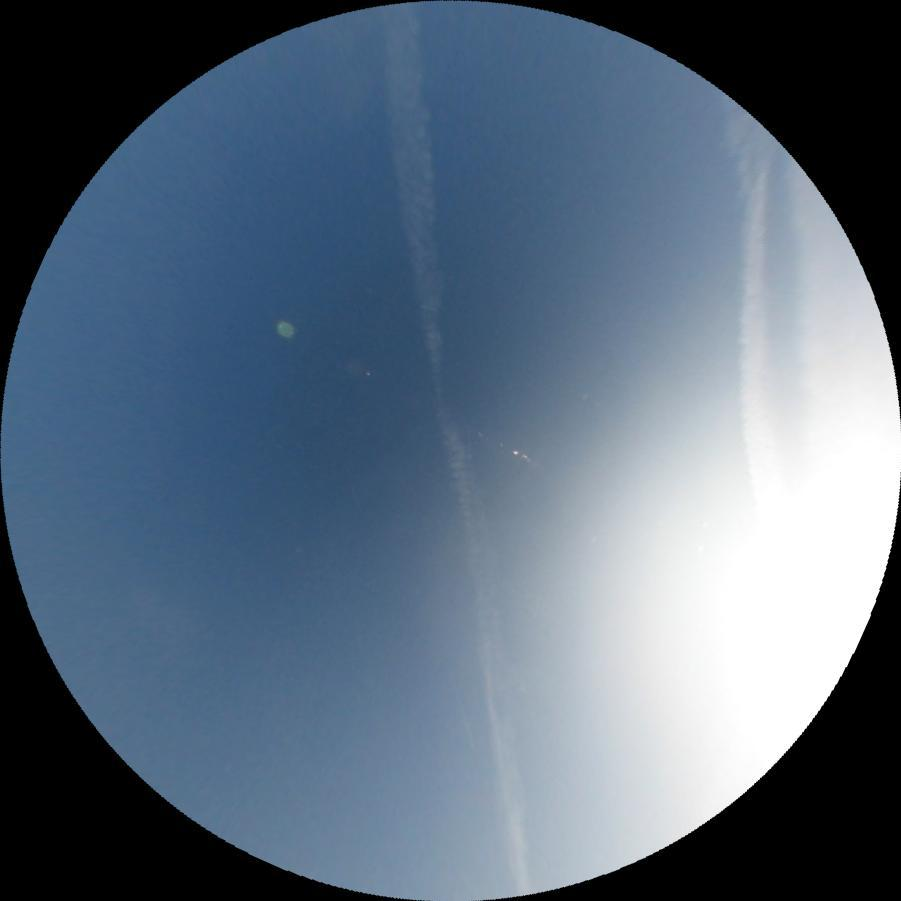contrail veryold: (369, 2, 543, 898), (791, 156, 901, 499), (723, 93, 792, 512)
sun: (673, 532, 878, 745)
